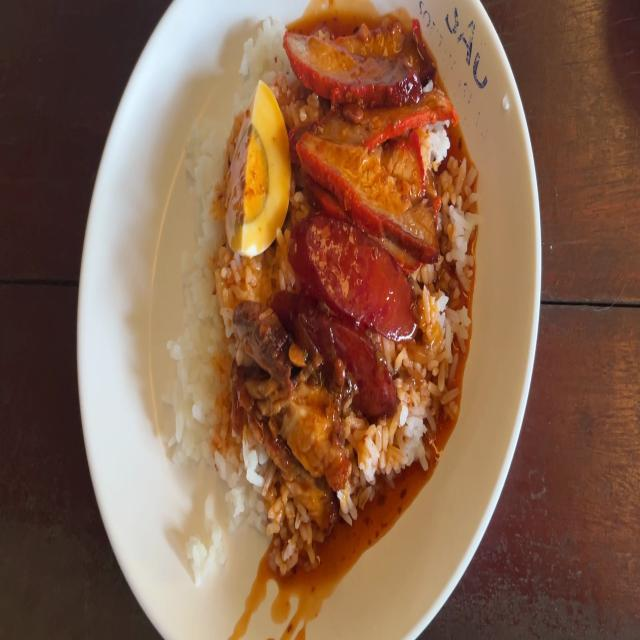red_pork_and_crispy_pork: (225, 88, 289, 259)
stir_fried_basil: (292, 218, 414, 402)
